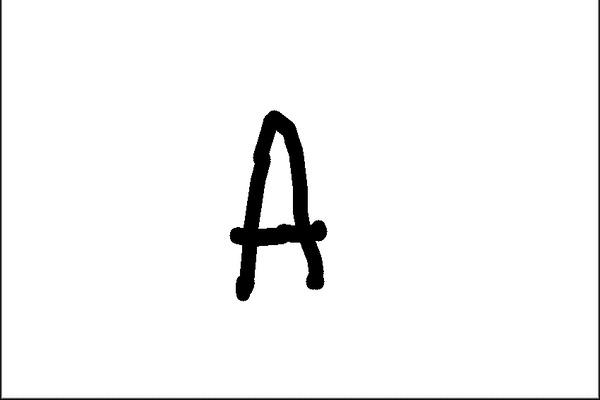A: (226, 101, 335, 308)
